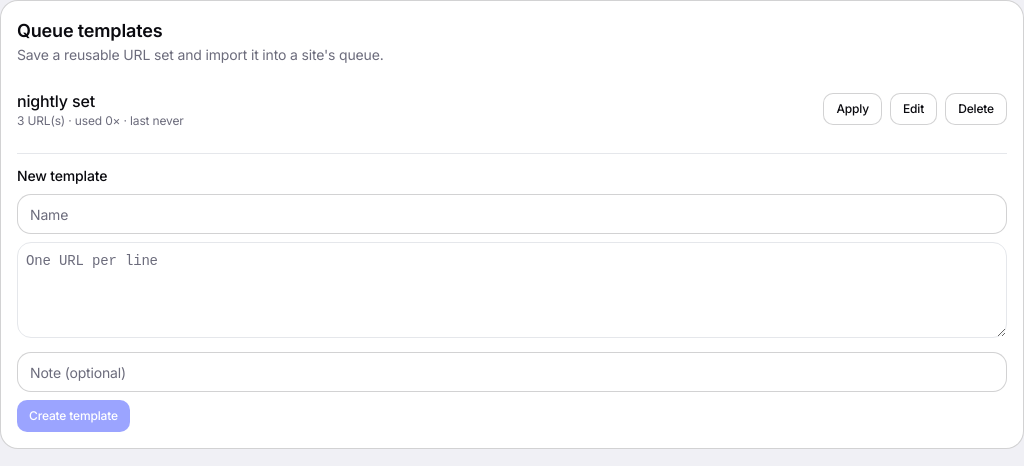
Test: QueueTemplatesPanel wires the dark queue_templates cluster › Save stays disabled until something actually changed (a no-op PUT returns ok:false)
Click the button with aria-label "Edit nightly set" at point(914, 109), box [890,93,937,125]
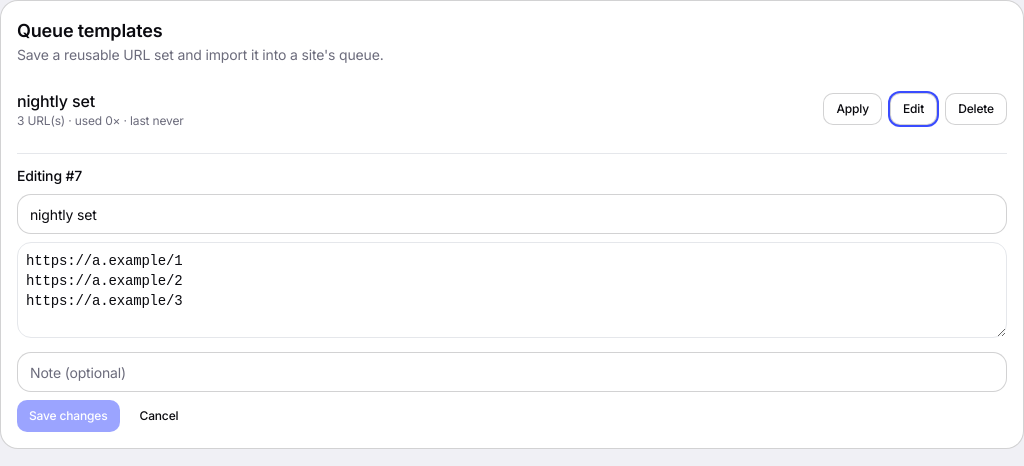
Expected: the button "Save changes" is disabled, [17,400,120,432]
Now the field named "Template name" holds "nightly set", box [17,194,1007,234]
Type "x" into the field named "Template note" at point(512, 372), box [17,352,1007,392]
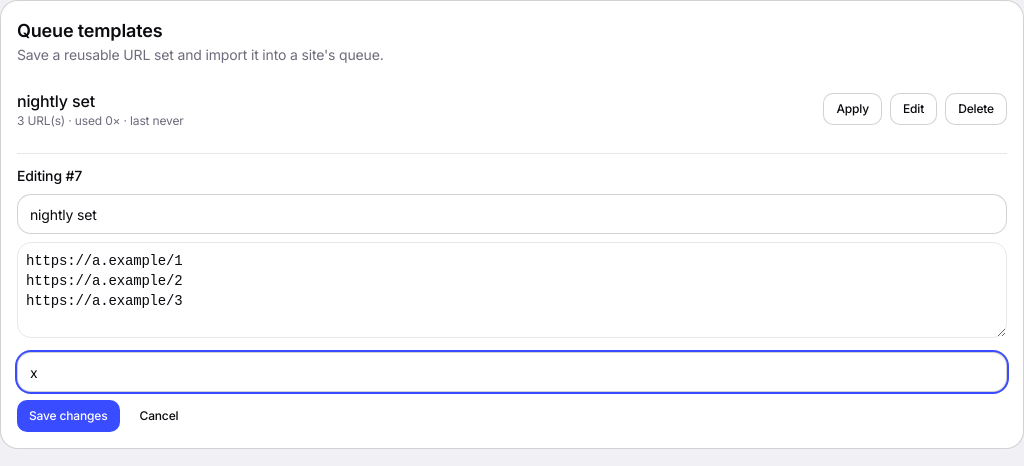
Now the button "Save changes" is enabled, box [17,400,120,432]
